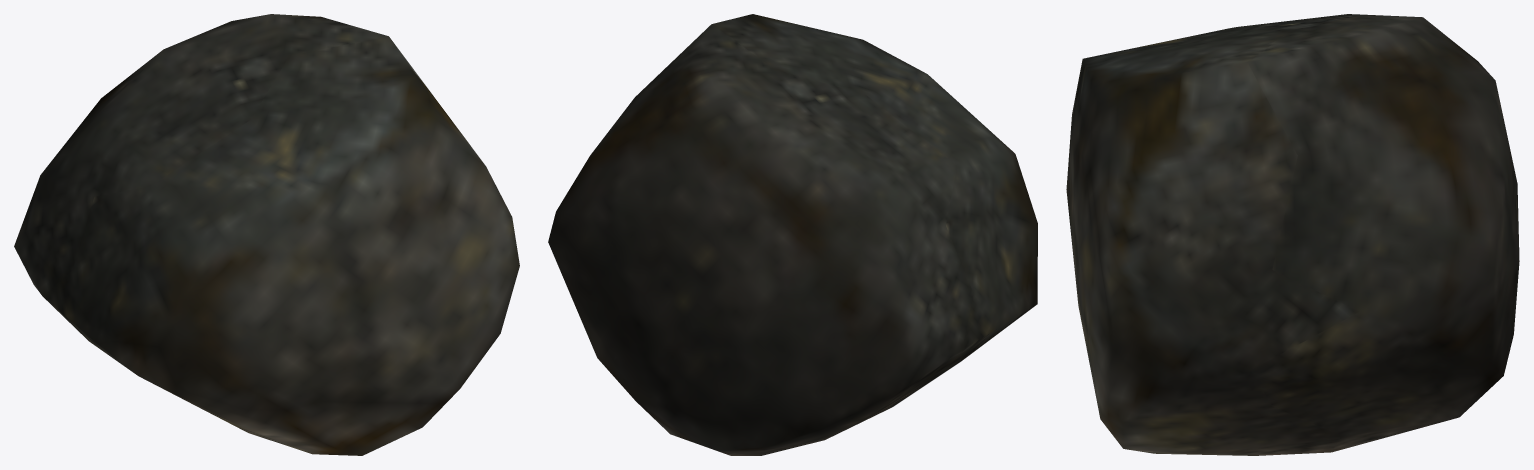
The model's file is rock_small_04.obj.
3 renders of one model, left to right at view 1: azimuth 30°, elevation 25°; view 2: azimuth 150°, elevation 25°; view 3: azimuth 270°, elevation 25°, orthographic. The views are drawn at different scales.
Visible parts, largest first — view 1: rock_small_04; view 2: rock_small_04; view 3: rock_small_04.
Part boxes in pixels (x1=…): rock_small_04: x1=14, y1=14, x2=519, y2=455; rock_small_04: x1=548, y1=14, x2=1037, y2=455; rock_small_04: x1=1066, y1=14, x2=1519, y2=455.
Bounding box in the file's own units: 1.8 × 1.69 × 1.58.
1 material, 1 textured.
